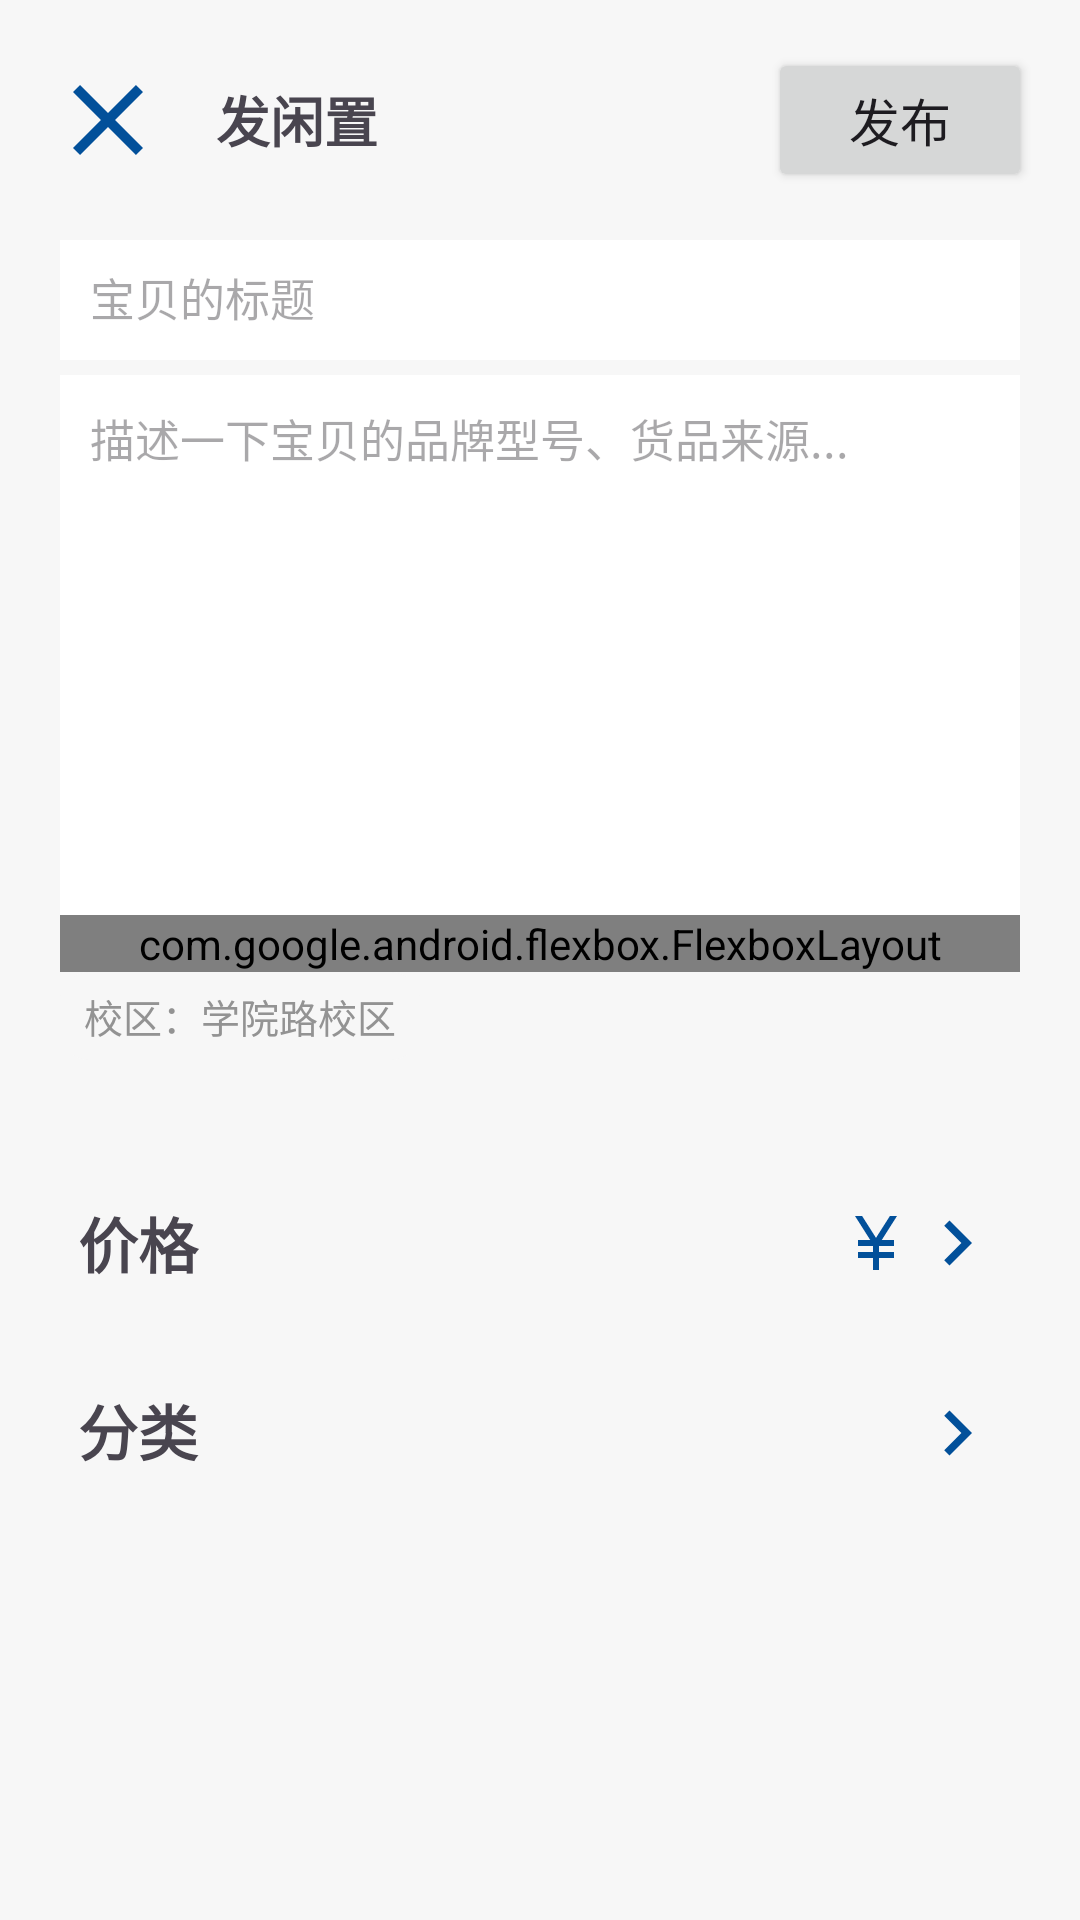

Named icons in this screenshot (1080*1920) and their bounding boxes, (x1, y1, x2, y2):
chevron right: (944, 1220, 972, 1266), (944, 1410, 972, 1456)
